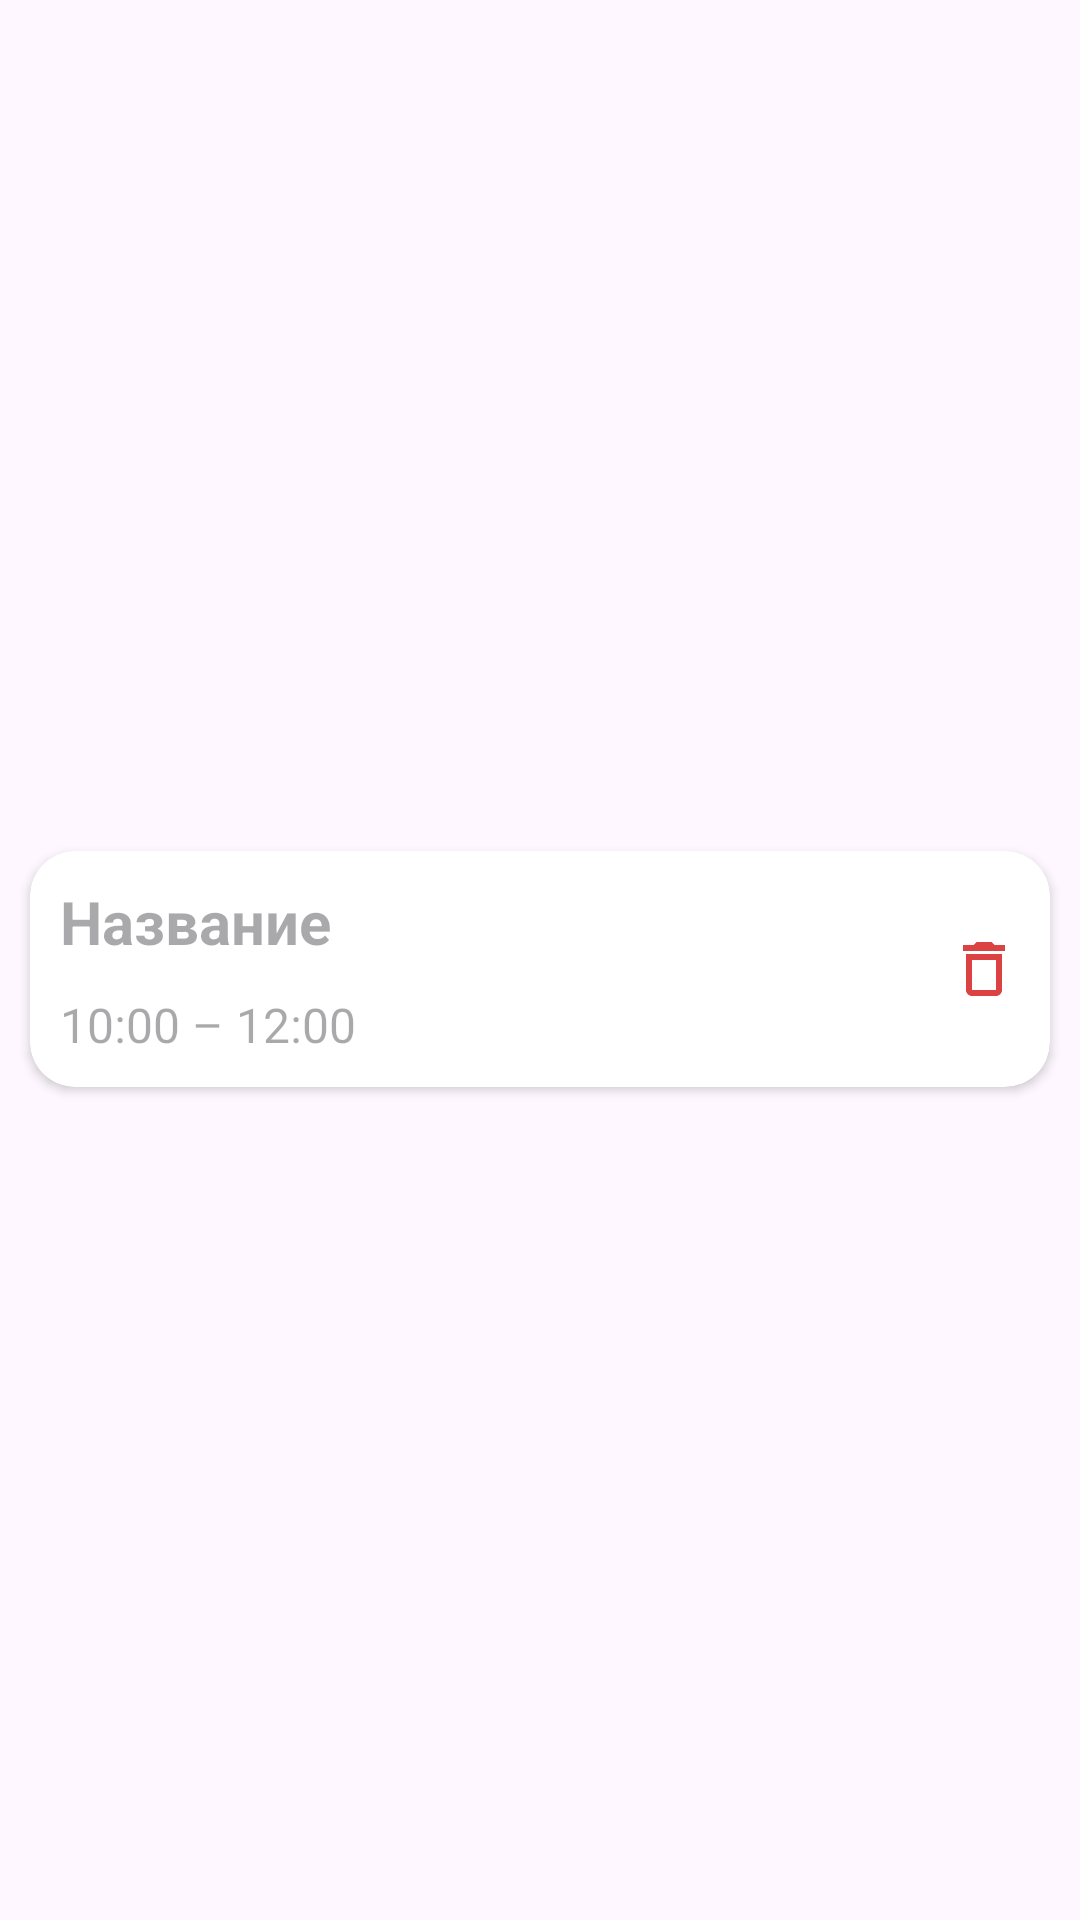

Icons on this 1080 x 1920 Android screen, each with the point to tap as (x=x, y=y):
delete: (x=984, y=969)
